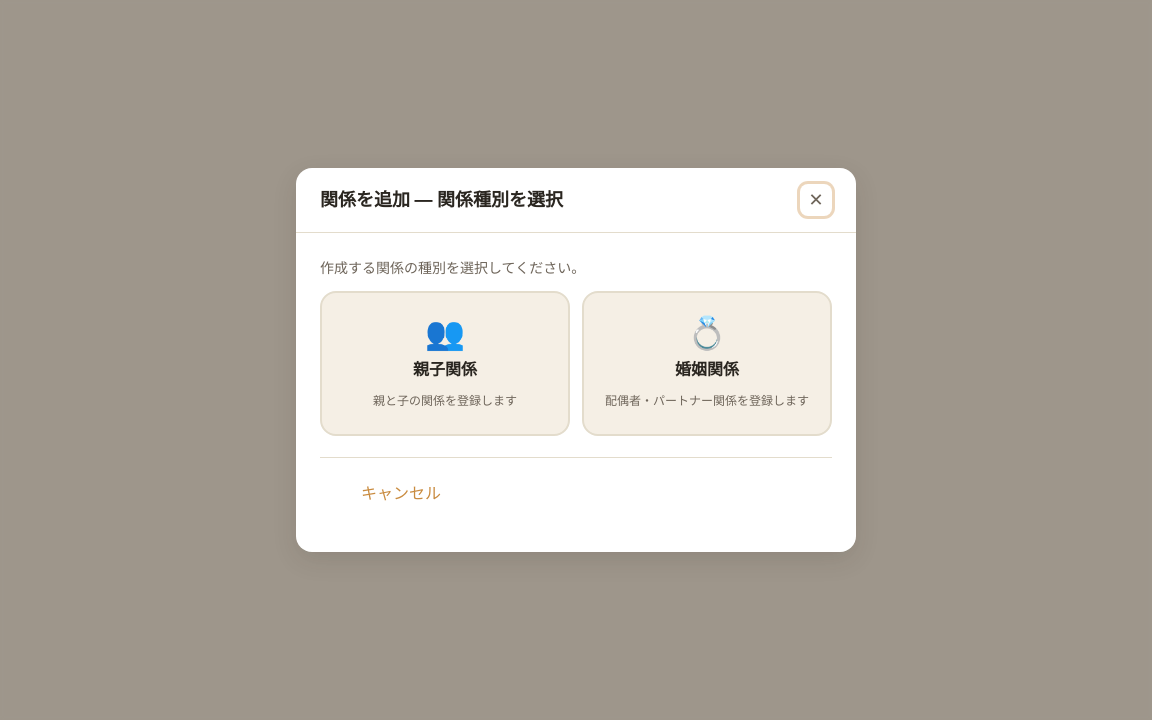
Test: RelationDialog › ステップ遷移 › TC-04: 「婚姻関係」ボタンをクリックすると1人目選択ステップに進む
This screenshot has width=1152, height=720.
Click the button "💍 婚姻関係 配偶者・パートナー関係を登録します" at coordinates (707, 364), box [582,291,832,436]
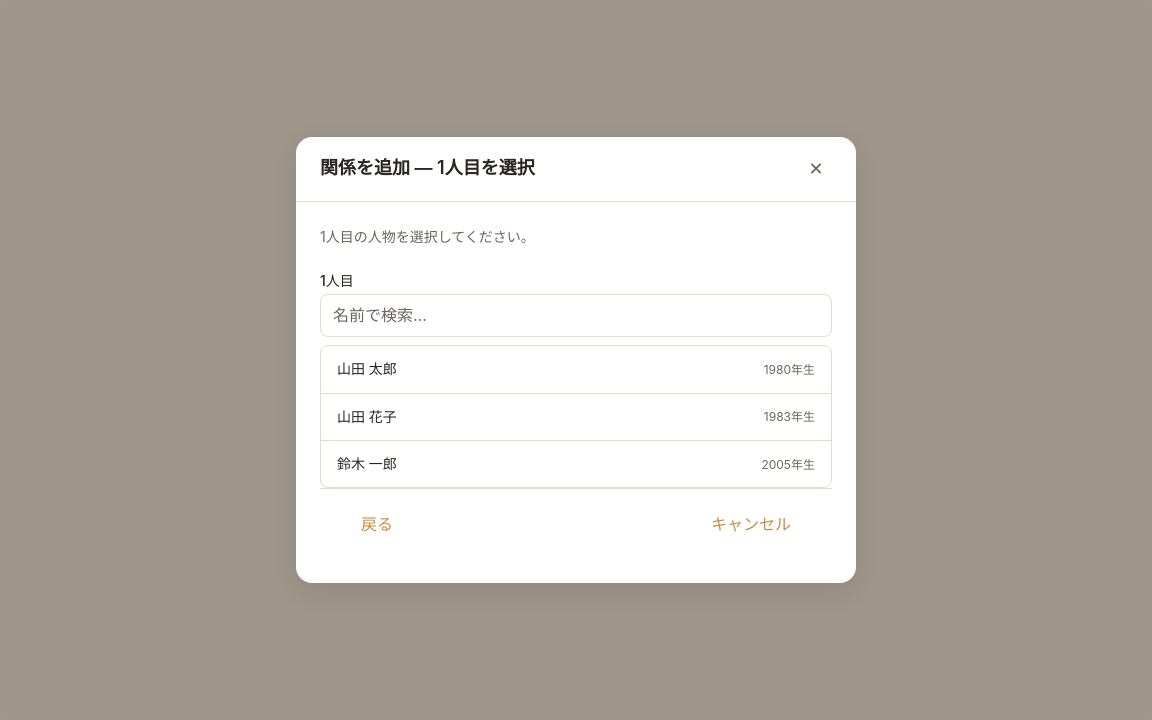
Now the text "1人目の人物を選択してください。" is shown, box [320,228,535,245]
